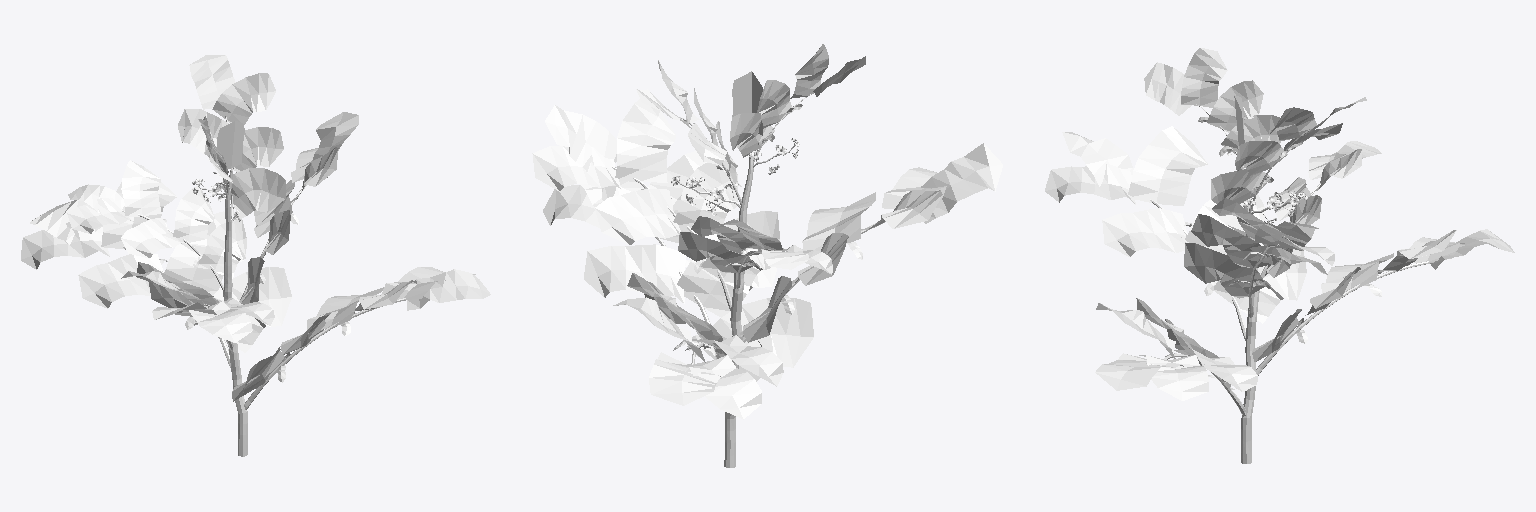
URDF robot description (tomato):
<?xml version="1.0" ?>
<!-- =================================================================================== -->
<!-- |    This document was autogenerated by xacro from inmoov.urdf.xacro              | -->
<!-- |    EDITING THIS FILE BY HAND IS NOT RECOMMENDED                                 | -->
<!-- =================================================================================== -->
<robot name="tomato" xmlns:xacro="http://ros.org/wiki/xacro">
  <link name="tomato">
    <inertial>
      <origin rpy="0 0 0" xyz="0 0 0.0"/>
      <mass value="0.5"/>
      <inertia ixx="0.05" ixy="0" ixz="0" iyy="0.06" iyz="0" izz="0.03"/>
    </inertial>
    <visual>
      <geometry>
        <mesh filename="tomato/10208_TomatoBeefSteak_v1.obj" scale="0.01 0.01 0.01"/>
      </geometry>
      <origin rpy="0 0 0" xyz="0 0 0.0"/>
      <material name="cbase">
        <color rgba="1 1 1 1"/>
      </material>
    </visual>
    <collision>
      <origin rpy="0 0 0" xyz="0 0 0"/>
      <geometry>
        <mesh filename="tomato/10208_TomatoBeefSteak_v1.obj" scale="0.01 0.01 0.01"/>
      </geometry>
    </collision>
  </link>
  <link name="plant">
    <inertial>
      <origin rpy="0 0 0" xyz="0 0 0.0"/>
      <mass value="0.0"/>
      <inertia ixx="0.05" ixy="0" ixz="0" iyy="0.06" iyz="0" izz="0.03"/>
    </inertial>
    <visual>
      <geometry>
        <mesh filename="tomato/VG18_1.obj" scale="2 2 2"/>
      </geometry>
      <origin rpy="1.57 0 0." xyz="0 0 0.0"/>
      <material name="cbase">
        <color rgba="1 1 1 1"/>
      </material>
    </visual>
  </link>
  <joint name="tomato_joint" type="revolute">
    <axis xyz="0 0 1"/>
    <limit effort="1000.0" lower="0.0" upper="0.548" velocity="0.5"/>
    <origin rpy="0 0 0" xyz="0.5 -0.3 0.45"/>
    <parent link="plant"/>
    <child link="tomato"/>
  </joint>

  <link name="tomato2">
    <inertial>
      <origin rpy="0 0 0" xyz="0 0 0.0"/>
      <mass value="0.5"/>
      <inertia ixx="0.03" ixy="0" ixz="0" iyy="0.00" iyz="0" izz="0.03"/>
    </inertial>
    <visual>
      <geometry>
        <mesh filename="tomato/10208_TomatoBeefSteak_v1.obj" scale="0.006 0.006 0.006"/>
      </geometry>
      <origin rpy="0.5 0 0" xyz="0 0 0.0"/>
      <material name="cbase">
        <color rgba="1 1 1 1"/>
      </material>
    </visual>
    <collision>
      <origin rpy="0.5 0 0" xyz="0 0 0"/>
      <geometry>
        <mesh filename="tomato/10208_TomatoBeefSteak_v1.obj" scale="0.006 0.006 0.006"/>
      </geometry>
    </collision>
  </link>
  <joint name="tomato_2" type="revolute">
    <axis xyz="0 0 1"/>
    <limit effort="1000.0" lower="0.0" upper="0.548" velocity="0.5"/>
    <origin rpy="0 0 0" xyz="0.1 0.20 0.85"/>
    <parent link="plant"/>
    <child link="tomato2"/>
  </joint>
  <link name="tomato3">
    <inertial>
      <origin rpy="0 0 0" xyz="0 0 0.0"/>
      <mass value="0.5"/>
      <inertia ixx="0.03" ixy="0" ixz="0" iyy="0.00" iyz="0" izz="0.03"/>
    </inertial>
    <visual>
      <geometry>
        <mesh filename="tomato/10208_TomatoBeefSteak_v1.obj" scale="0.008 0.008 0.008"/>
      </geometry>
      <origin rpy="0.5 0. 1." xyz="0 0 0.0"/>
      <material name="cbase">
        <color rgba="1 1 1 1"/>
      </material>
    </visual>
    <collision>
      <origin rpy="0.5 0. 1." xyz="0 0 0"/>
      <geometry>
        <mesh filename="tomato/10208_TomatoBeefSteak_v1.obj" scale="0.008 0.008 0.008"/>
      </geometry>
    </collision>
  </link>
  <joint name="tomato_3" type="revolute">
    <axis xyz="0 0 1"/>
    <limit effort="1000.0" lower="0.0" upper="0.548" velocity="0.5"/>
    <origin rpy="0 0 0" xyz="0.05 0.15 0.8"/>
    <parent link="plant"/>
    <child link="tomato3"/>
  </joint>
  <link name="tomato4">
    <inertial>
      <origin rpy="0 0 0" xyz="0 0 0.0"/>
      <mass value="0.5"/>
      <inertia ixx="0.03" ixy="0" ixz="0" iyy="0.00" iyz="0" izz="0.03"/>
    </inertial>
    <visual>
      <geometry>
        <mesh filename="tomato/10208_TomatoBeefSteak_v1.obj" scale="0.005 0.005 0.005"/>
      </geometry>
      <origin rpy="-0.5 0. -1." xyz="0 0 0.0"/>
      <material name="cbase">
        <color rgba="1 1 1 1"/>
      </material>
    </visual>
    <collision>
      <origin rpy="-0.5 0. -1." xyz="0 0 0"/>
      <geometry>
        <mesh filename="tomato/10208_TomatoBeefSteak_v1.obj" scale="0.005 0.005 0.005"/>
      </geometry>
    </collision>
  </link>
  <joint name="tomato_4" type="revolute">
    <axis xyz="0 0 1"/>
    <limit effort="1000.0" lower="0.0" upper="0.548" velocity="0.5"/>
    <origin rpy="0 0 0" xyz="-0.20 -0.05 0.95"/>
    <parent link="plant"/>
    <child link="tomato4"/>
  </joint>


</robot>

--- What the picture shows (computed from the rendered views, not written in the file) ---
3 views of the same robot in one strip: view 1: azimuth 30°, elevation 25°; view 2: azimuth 150°, elevation 25°; view 3: azimuth 270°, elevation 25° (orthographic).
Model tomato with 5 links and 4 joints (4 revolute), rooted at plant, posed every joint at zero.
Links seen in each view (by area): view 1: plant; view 2: plant; view 3: plant.
Link boxes in pixels (<box>): plant: <box>21,55,490,456</box>; plant: <box>532,44,1002,467</box>; plant: <box>1045,48,1514,463</box>.
Bounding box of the posed robot: 1.26 × 1.38 × 1.24 m (x, y, z).
Meshes: 2 distinct files referenced, 1 mesh visuals loaded (1 OBJ); not drawn: 4 (reference not matched to a file when rendering).